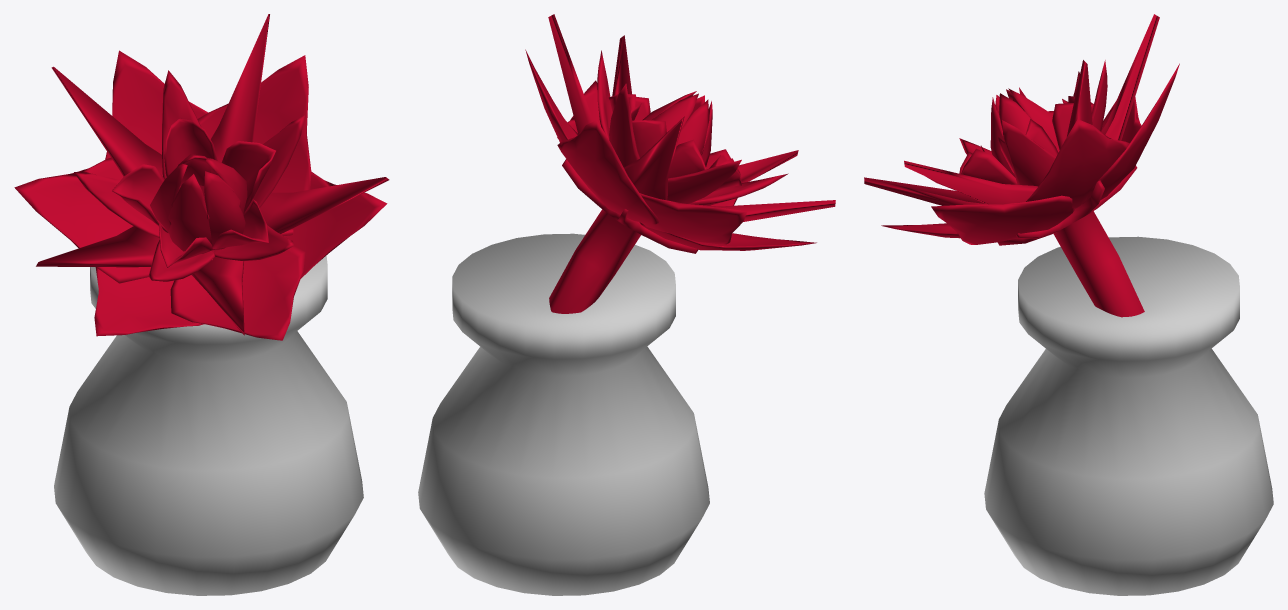
Rendered from HospitalFlower.fbx.
The picture shows the model from 3 angles, left to right: view 1: azimuth 30°, elevation 25°; view 2: azimuth 150°, elevation 25°; view 3: azimuth 270°, elevation 25°; orthographic projection. The views are drawn at different scales.
Parts seen in each view (by area): view 1: Empty_Mesh; view 2: Empty_Mesh; view 3: Empty_Mesh.
Boxes of the visible parts, x1=… form: Empty_Mesh: x1=14, y1=14, x2=389, y2=595; Empty_Mesh: x1=418, y1=14, x2=835, y2=595; Empty_Mesh: x1=864, y1=14, x2=1273, y2=595.
Bounding box in the file's own units: 2.06 × 2.91 × 2.15.
